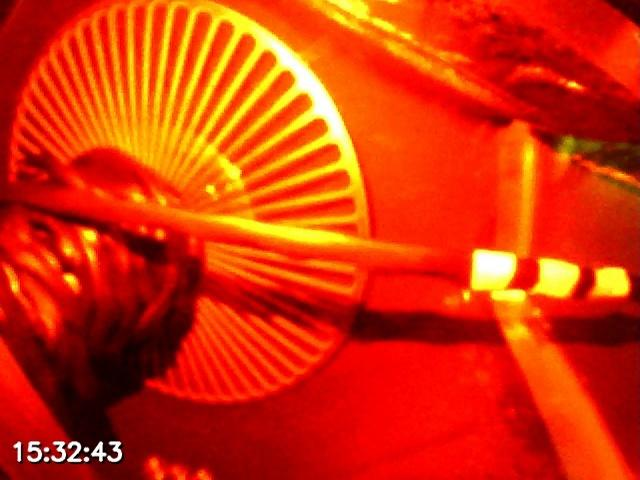white-dots: (470, 248, 631, 303)
